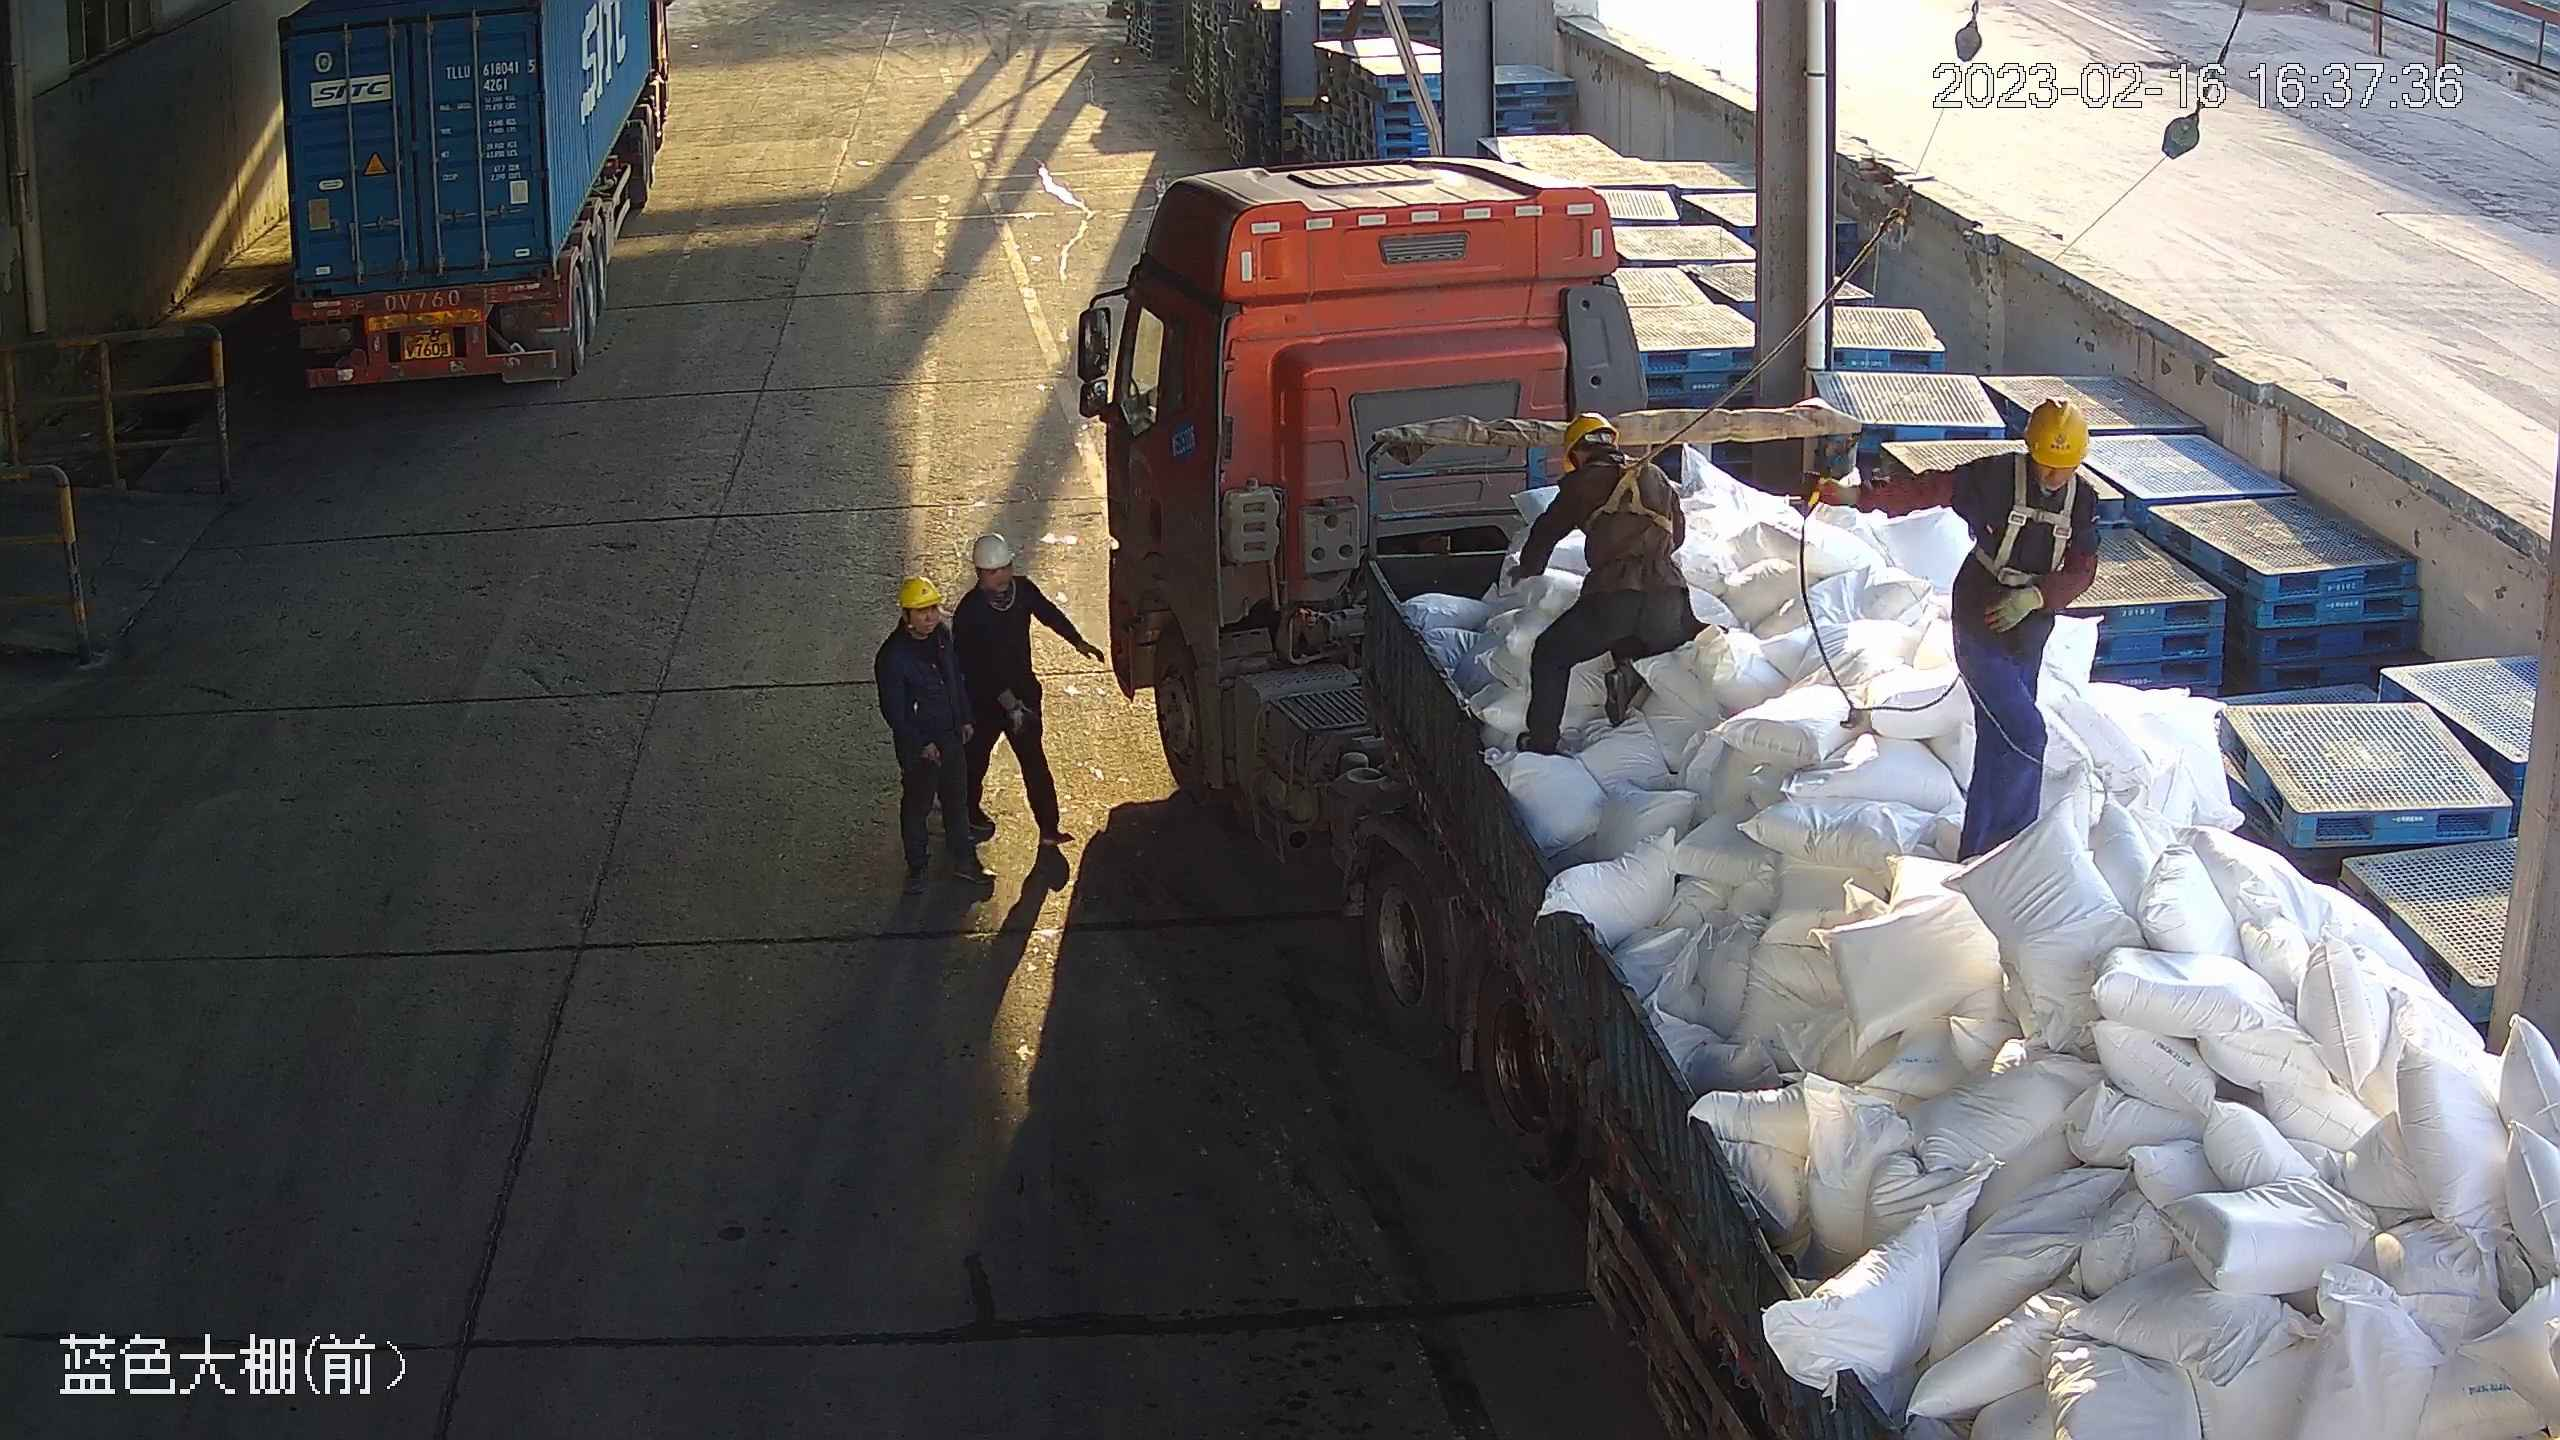belt: (1971, 454, 2079, 587), (1582, 442, 1674, 533)
head: (1958, 398, 2102, 550), (1559, 411, 1673, 524), (953, 532, 1037, 640), (875, 576, 955, 678)
helmet: (2024, 399, 2090, 469), (1559, 411, 1620, 473), (972, 532, 1014, 570), (897, 576, 943, 609)
people: (1807, 398, 2102, 861), (1505, 411, 1705, 757), (951, 532, 1105, 848), (874, 576, 999, 895)
truck: (1075, 154, 2560, 1440), (275, 1, 679, 393)
